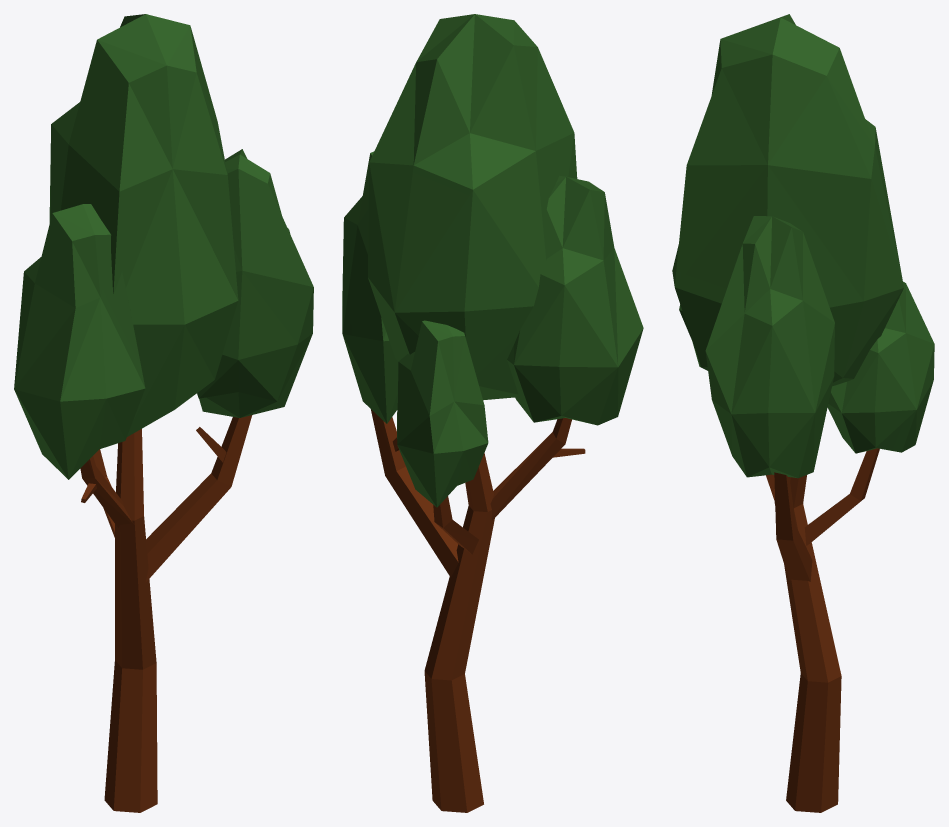
File: tree_05.glb
The picture shows the model from 3 angles, left to right: view 1: azimuth 30°, elevation 25°; view 2: azimuth 150°, elevation 25°; view 3: azimuth 270°, elevation 25°; orthographic projection. The views are drawn at different scales.
Parts seen in each view (by area): view 1: Tree_temp_climate_005; view 2: Tree_temp_climate_005; view 3: Tree_temp_climate_005.
Part boxes in pixels (x1,y1,x2,y2): Tree_temp_climate_005: (14, 14, 313, 812); Tree_temp_climate_005: (342, 14, 643, 812); Tree_temp_climate_005: (672, 14, 934, 812).
Bounding box in the file's own units: 0.0732 × 0.198 × 0.06.
1 material, 1 textured.
